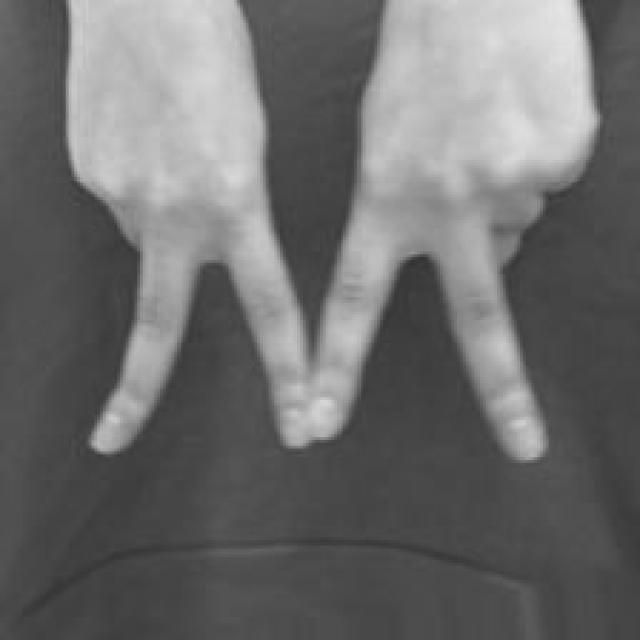M: (52, 1, 611, 477)
